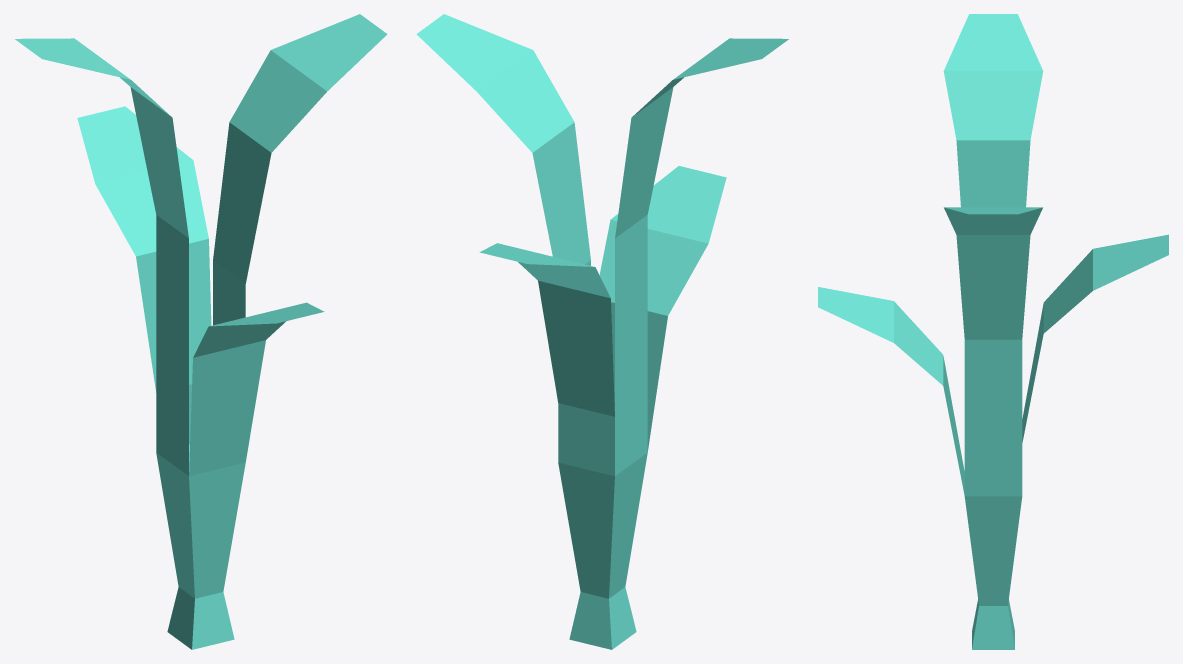
Rendered from kn_crops_leafsstageb.fbx.
3 views of the same model, side by side, from view 1: azimuth 30°, elevation 25°; view 2: azimuth 150°, elevation 25°; view 3: azimuth 270°, elevation 25° (orthographic). The views are drawn at different scales.
Parts seen in each view (by area): view 1: kn_crops_leafsstageb; view 2: kn_crops_leafsstageb; view 3: kn_crops_leafsstageb.
Part boxes in pixels (left/top/right/bottom): kn_crops_leafsstageb: left=15, top=14, right=387, bottom=649; kn_crops_leafsstageb: left=416, top=14, right=788, bottom=649; kn_crops_leafsstageb: left=818, top=14, right=1168, bottom=649.
Size of the model in its own units: 0.2875 by 0.5 by 0.2875.
Materials: 1 (1 with a texture image).
